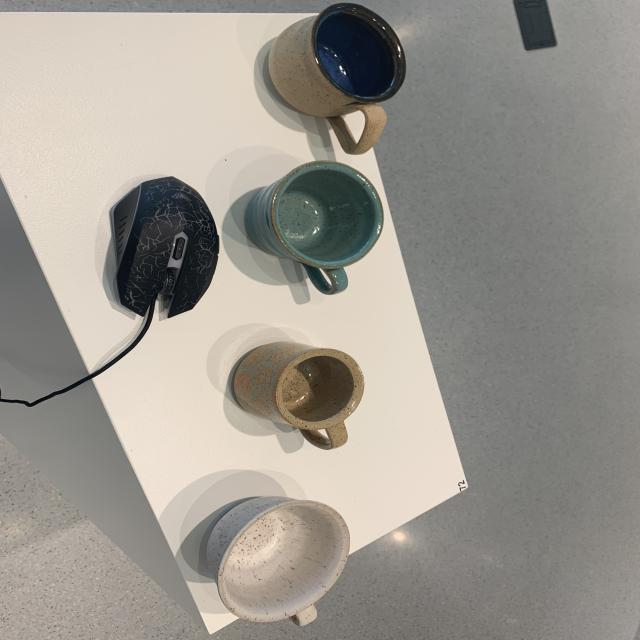Mouse: (100, 171, 230, 335)
